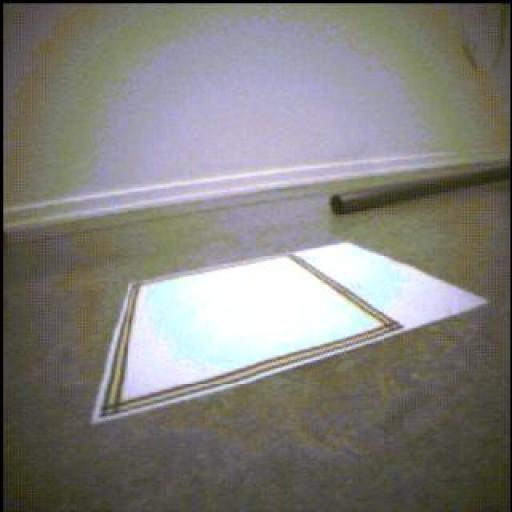Pad: (94, 245, 486, 424)
